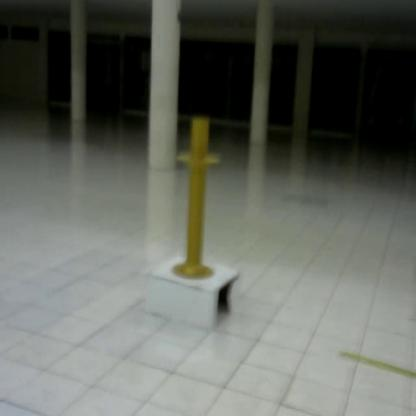pole: (171, 113, 223, 281)
